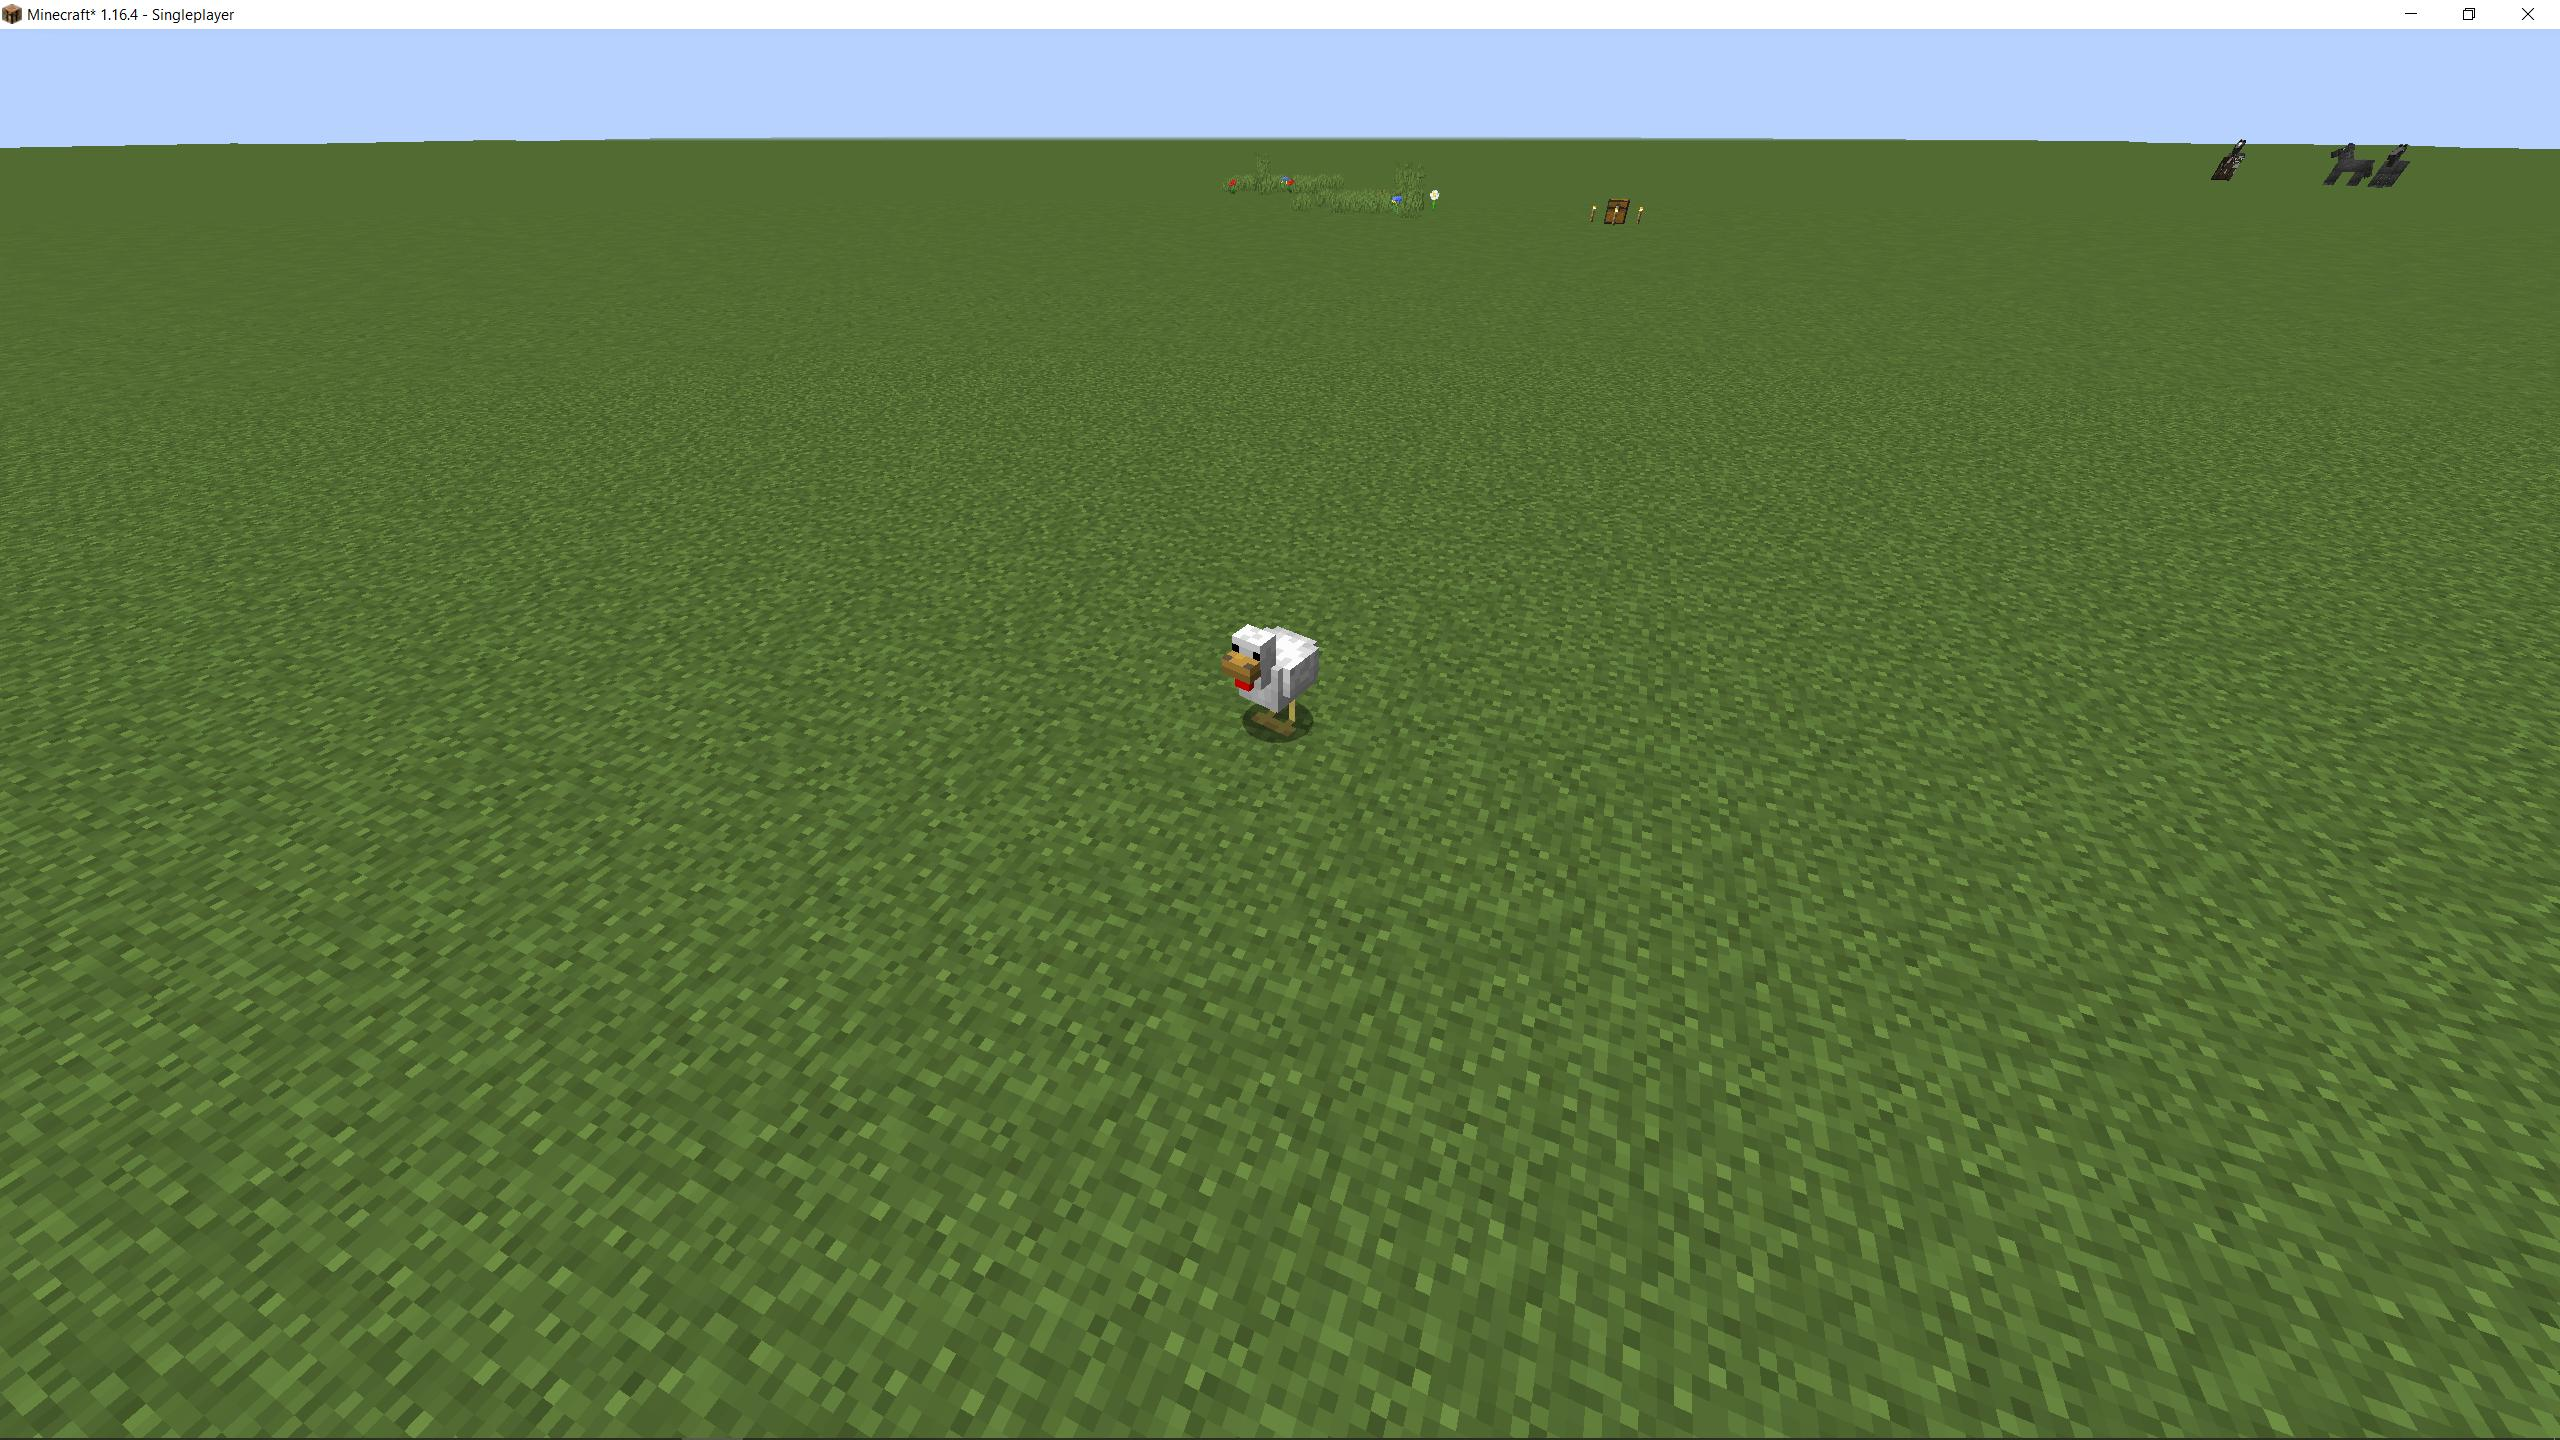chicken: (1220, 622, 1326, 745)
